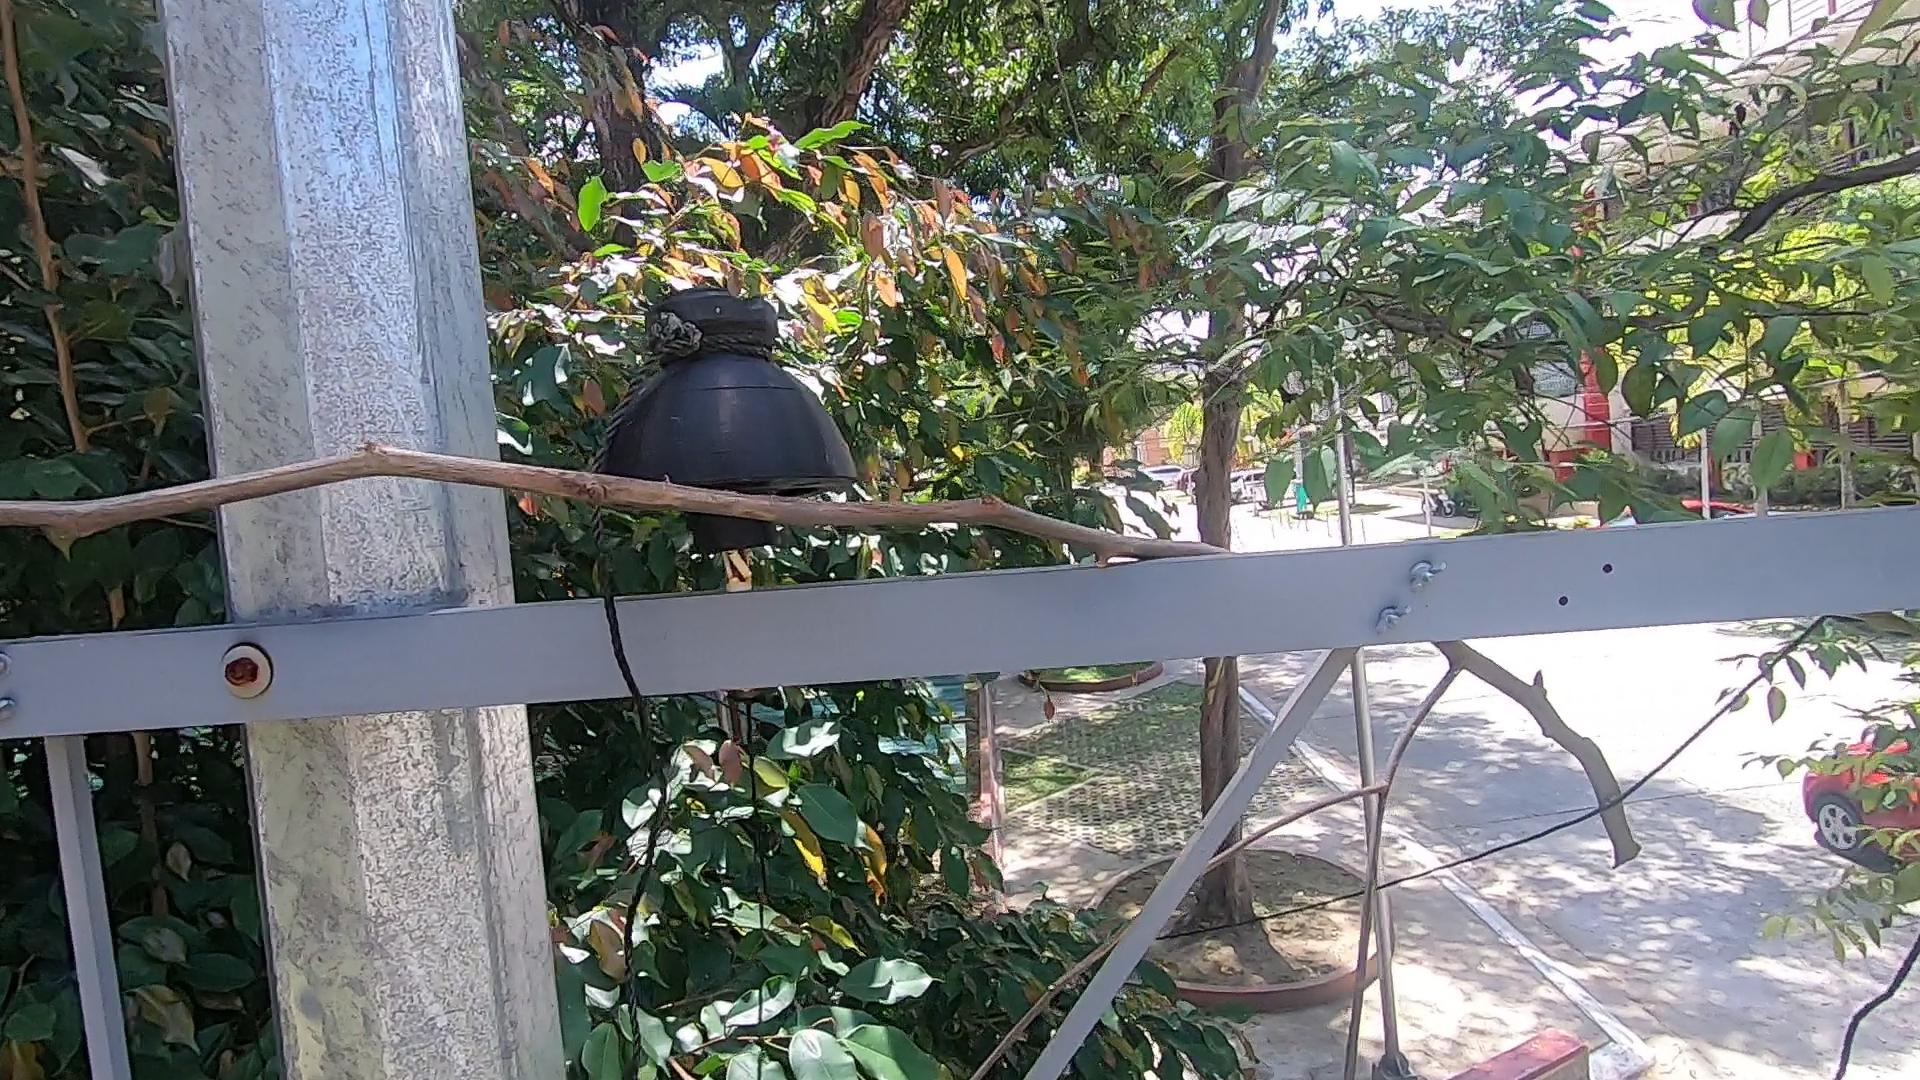tree branch: (957, 630, 1693, 1077), (1, 421, 1408, 574)
